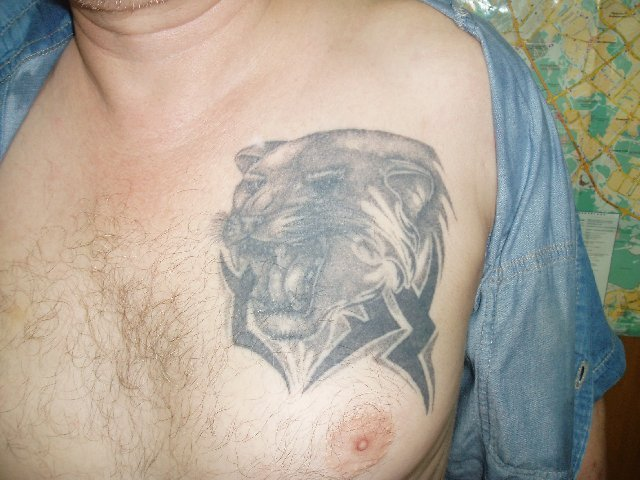tatu5_tigr: (207, 128, 451, 388)
